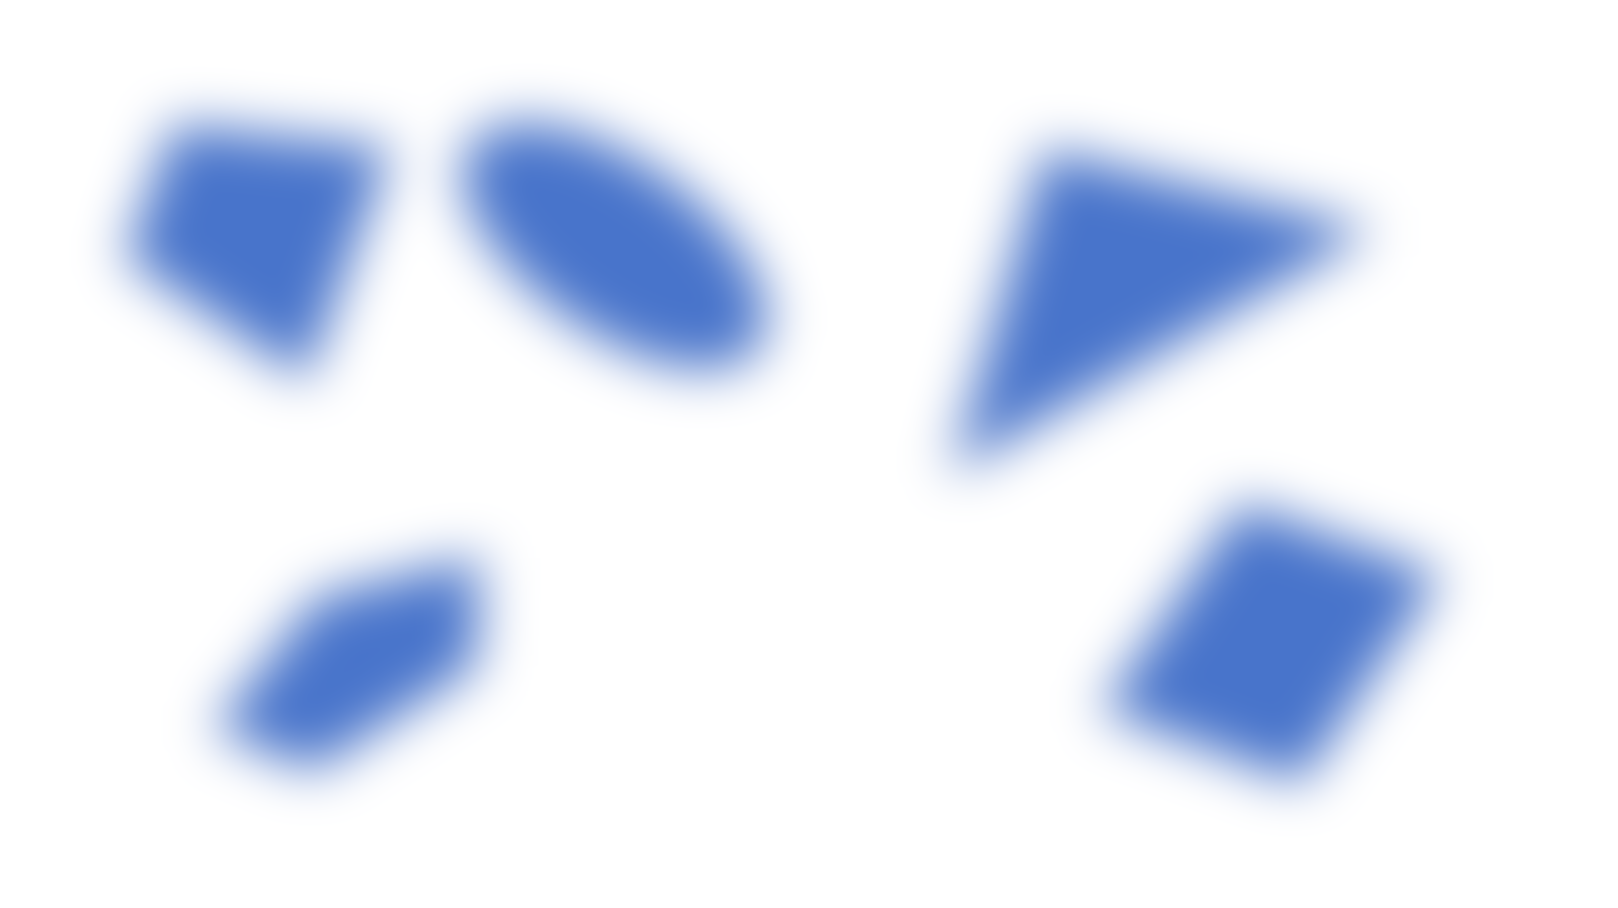circle: (442, 96, 798, 375)
parallelogram: (1108, 471, 1421, 787)
pentagon: (202, 541, 518, 787)
trapezium: (124, 97, 401, 371)
triangle: (949, 129, 1380, 437)
